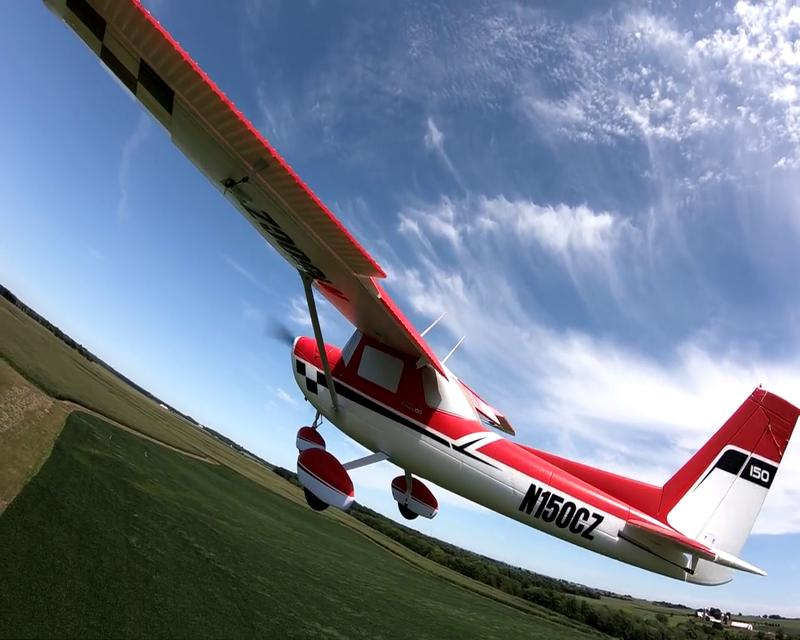UAV: (41, 0, 793, 586)
